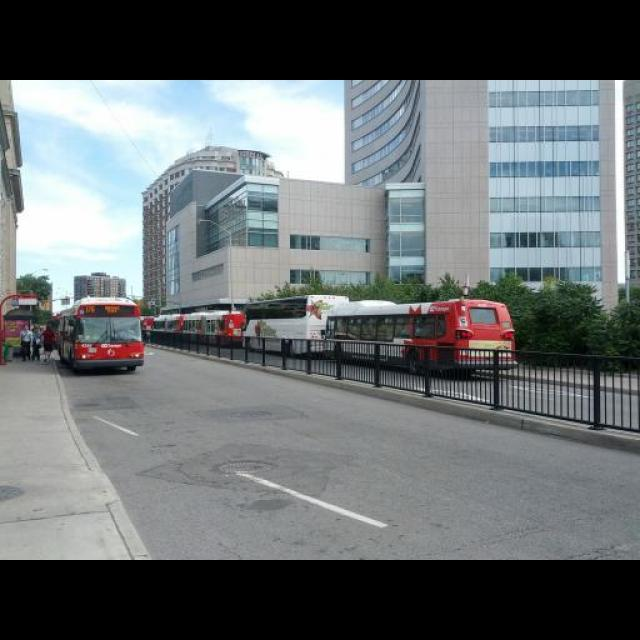Bus: (324, 299, 511, 377), (58, 297, 149, 373), (242, 300, 358, 353), (182, 310, 250, 340), (153, 314, 189, 333)
